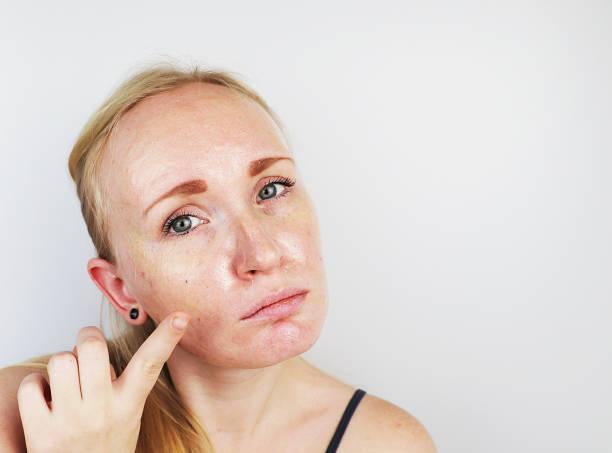Oily-Skin: (262, 216, 321, 278), (182, 243, 247, 296)
